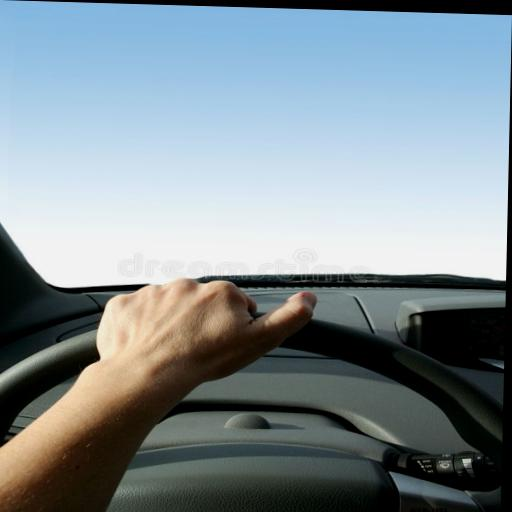Hands-on-the-Wheel: (37, 257, 343, 410)
